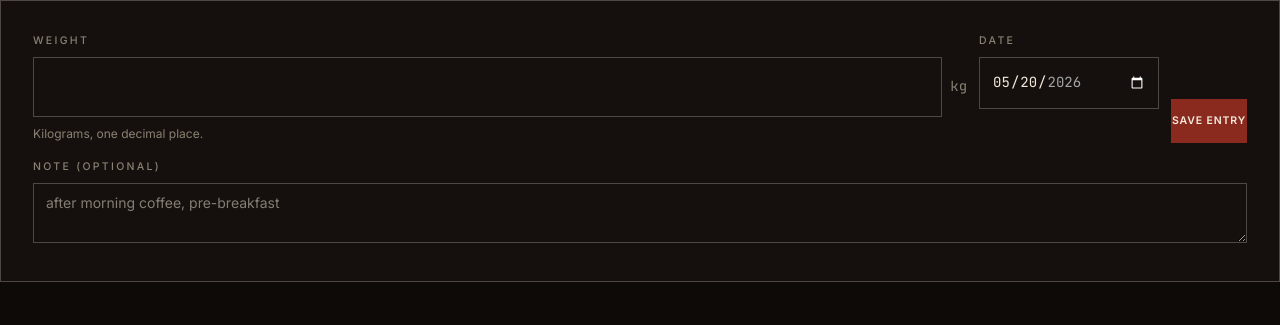
Test: <WeightQuickAdd /> › client-side validation rejects weight outside [30, 350]
Type "400" into the number field with test id "weight-quick-add-input" at (488, 87), box [33,57,942,117]
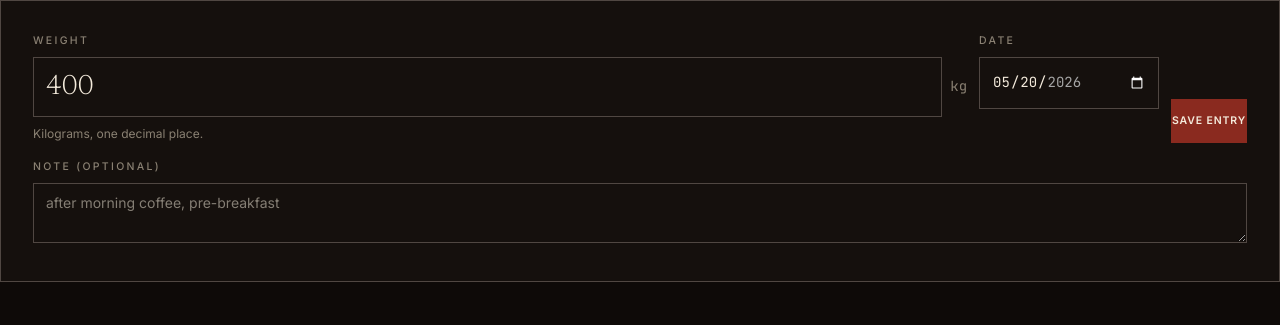
Submit the form with test id "weight-quick-add-submit"
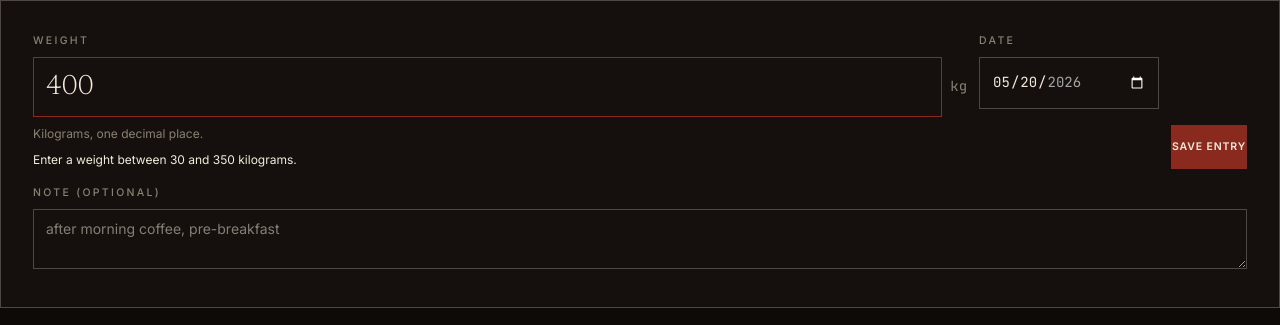
Check: the message "Enter a weight between 30 and 350 kilograms." is shown, box [33,152,297,167]
